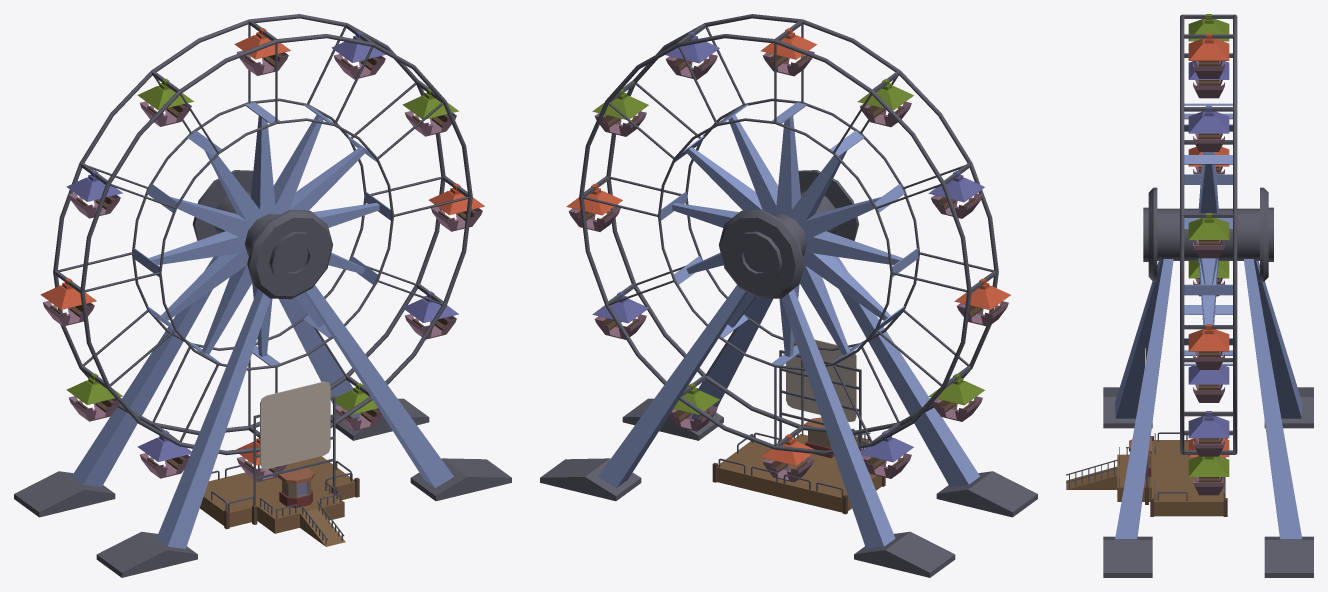
The model's file is Koleso.fbx.
3 views of the same model, side by side, from view 1: azimuth 30°, elevation 25°; view 2: azimuth 150°, elevation 25°; view 3: azimuth 270°, elevation 25° (orthographic). The views are drawn at different scales.
Visible parts, largest first — view 1: Koleso, Koleso_basa, Kabinka_9, Kabinka_10, Kabinka_8, Kabinka_11, Kabinka_12, Kabinka_5, Kabinka_4, Kabinka_1, Kabinka_2, Kabinka_3 (+2 smaller); view 2: Koleso, Koleso_basa, Kabinka_9, Kabinka_10, Kabinka_11, Kabinka_8, Kabinka_12, Kabinka_5, Kabinka_4, Kabinka_1, Kabinka_7, Kabinka_2 (+2 smaller); view 3: Koleso_basa, Koleso, Kabinka_5, Kabinka_3, Kabinka_4, Kabinka_2, Kabinka_1, Kabinka_6, Kabinka_8, Kabinka_12, Kabinka_11, Kabinka_9 (+1 smaller).
Part boxes in pixels (x1,y1,x2,y2): Koleso: (53,14,472,455); Koleso_basa: (14,256,511,577); Kabinka_9: (66,365,122,421); Kabinka_10: (40,271,96,326); Kabinka_8: (137,422,191,478); Kabinka_11: (66,163,122,218); Kabinka_12: (137,71,193,126); Kabinka_5: (402,284,458,339); Kabinka_4: (429,176,484,231); Kabinka_1: (234,20,290,75); Kabinka_2: (331,23,386,79); Kabinka_3: (402,80,458,136); Koleso: (579,14,998,455); Koleso_basa: (540,256,1037,577); Kabinka_9: (928,365,984,421); Kabinka_10: (954,271,1010,326); Kabinka_11: (928,163,984,218); Kabinka_8: (860,422,913,478); Kabinka_12: (857,71,913,127); Kabinka_5: (592,284,648,339); Kabinka_4: (566,176,622,231); Kabinka_1: (761,20,816,76); Kabinka_7: (760,426,814,482); Kabinka_2: (665,23,719,79); Koleso_basa: (1066,259,1313,577); Koleso: (1143,14,1273,454); Kabinka_5: (1183,411,1234,456); Kabinka_3: (1183,213,1234,258); Kabinka_4: (1183,324,1233,369); Kabinka_2: (1183,106,1234,151); Kabinka_1: (1183,33,1233,78); Kabinka_6: (1183,450,1234,495); Kabinka_8: (1184,358,1232,402); Kabinka_12: (1183,14,1233,41); Kabinka_11: (1184,53,1232,98); Kabinka_9: (1188,261,1229,296).
Size of the model in its own units: 43.15 by 44.93 by 22.38.
